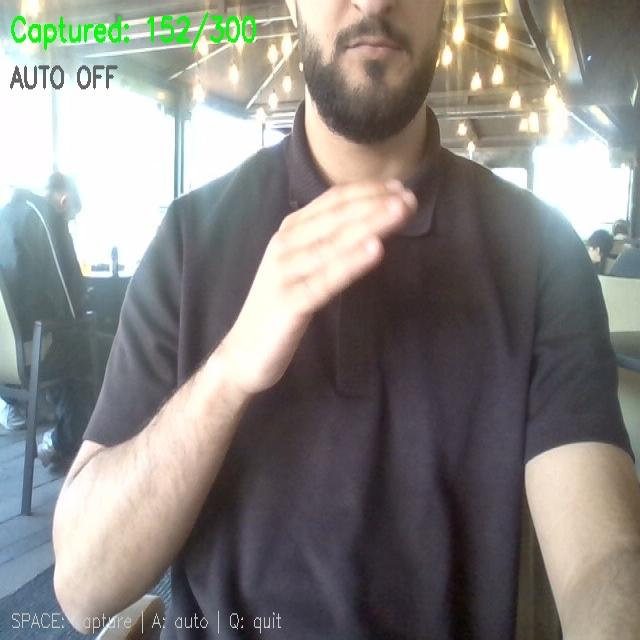Hand: (218, 180, 416, 394)
